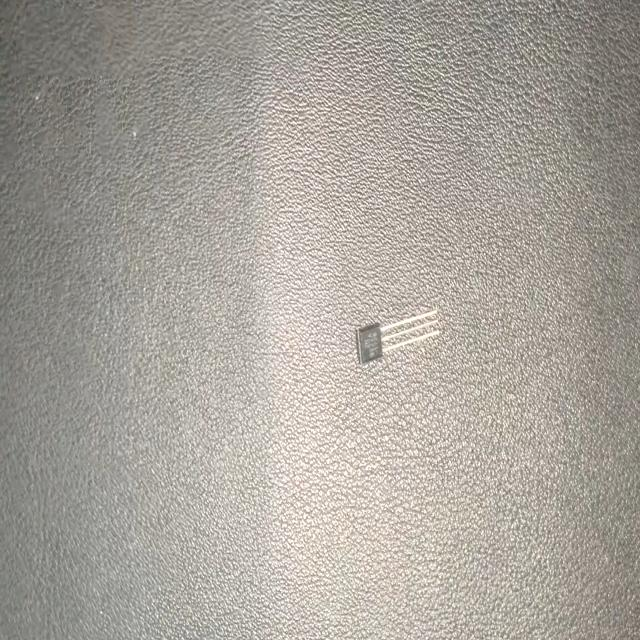BJT: (356, 308, 441, 369)
